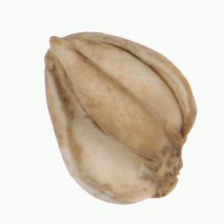L1: (146, 141, 184, 198), (42, 29, 71, 87)
L2: (43, 31, 199, 205)
